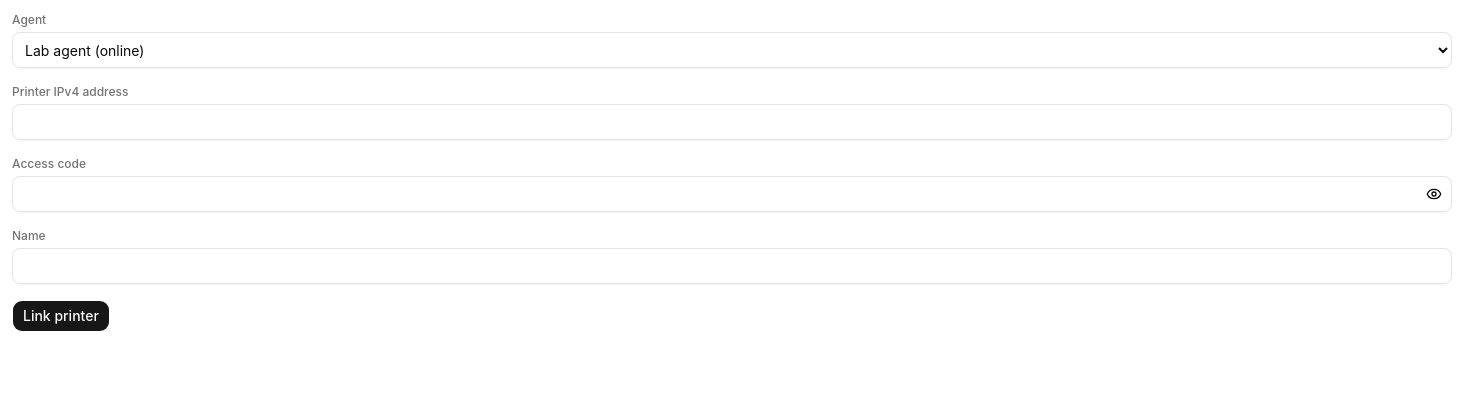
Test: LinkPrinterMachineForm › shows the detailed cause when an unclassified link failure occurs
Step 1. Type "192.0.2.10" into the field labelled "Printer IPv4 address" → (732, 122), box [12,104,1452,140]
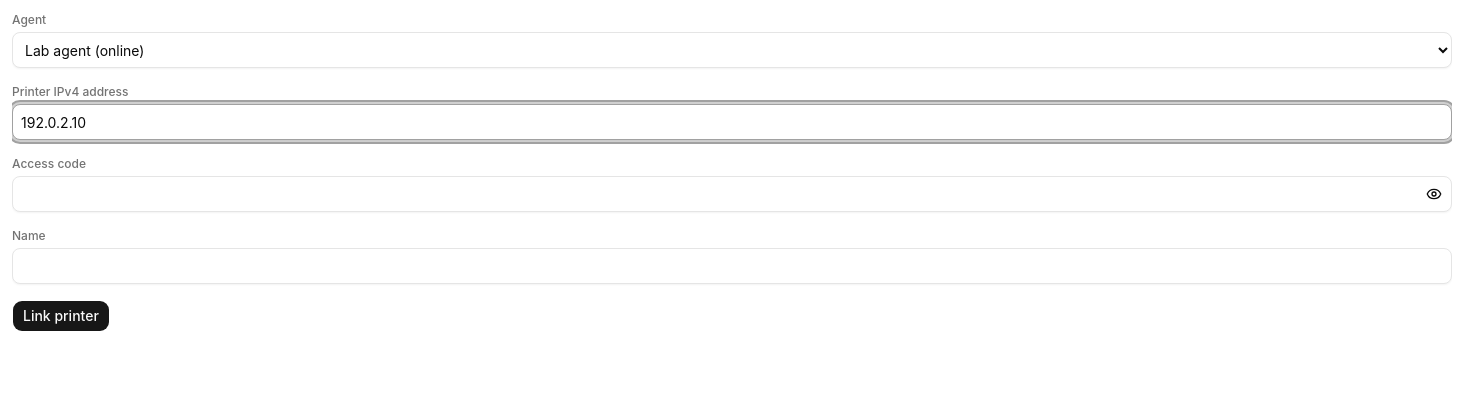
Step 2. Type "SECRET-LINK-CODE" into the password field labelled "Access code" → (732, 194), box [12,176,1452,212]
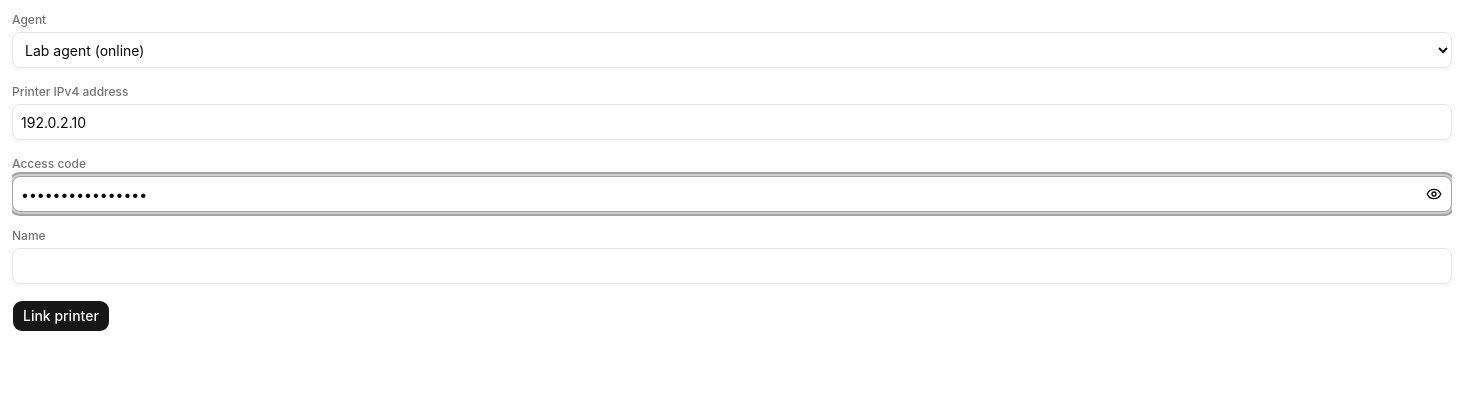
Step 3. Click the button "Link printer" → (61, 316), box [12,300,110,332]
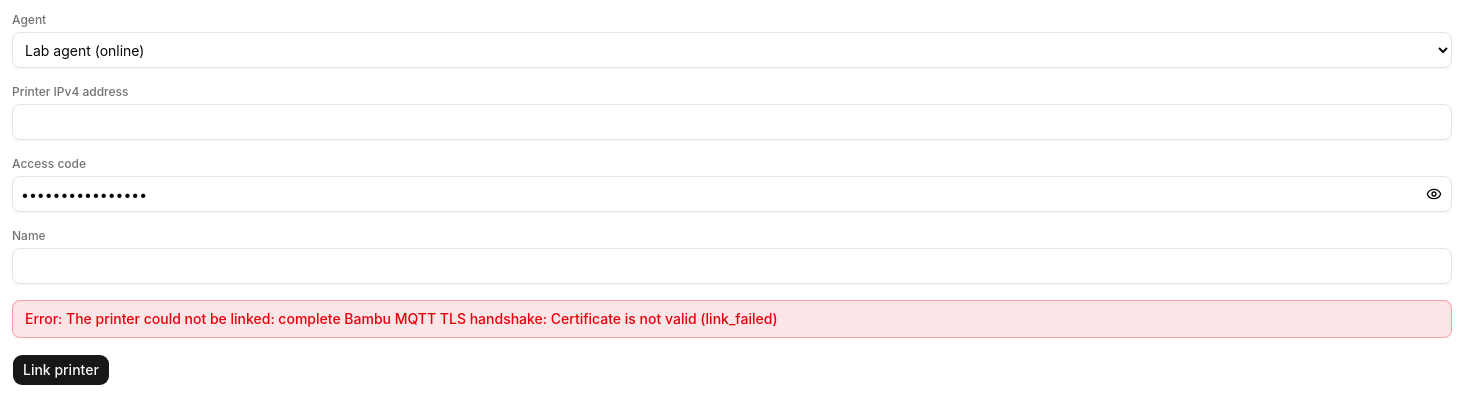
Now the text "Error: The printer could not be linked: complete Bambu MQTT TLS handshake: Certificate is not valid (link_failed)" is shown, box [25,310,778,327]
